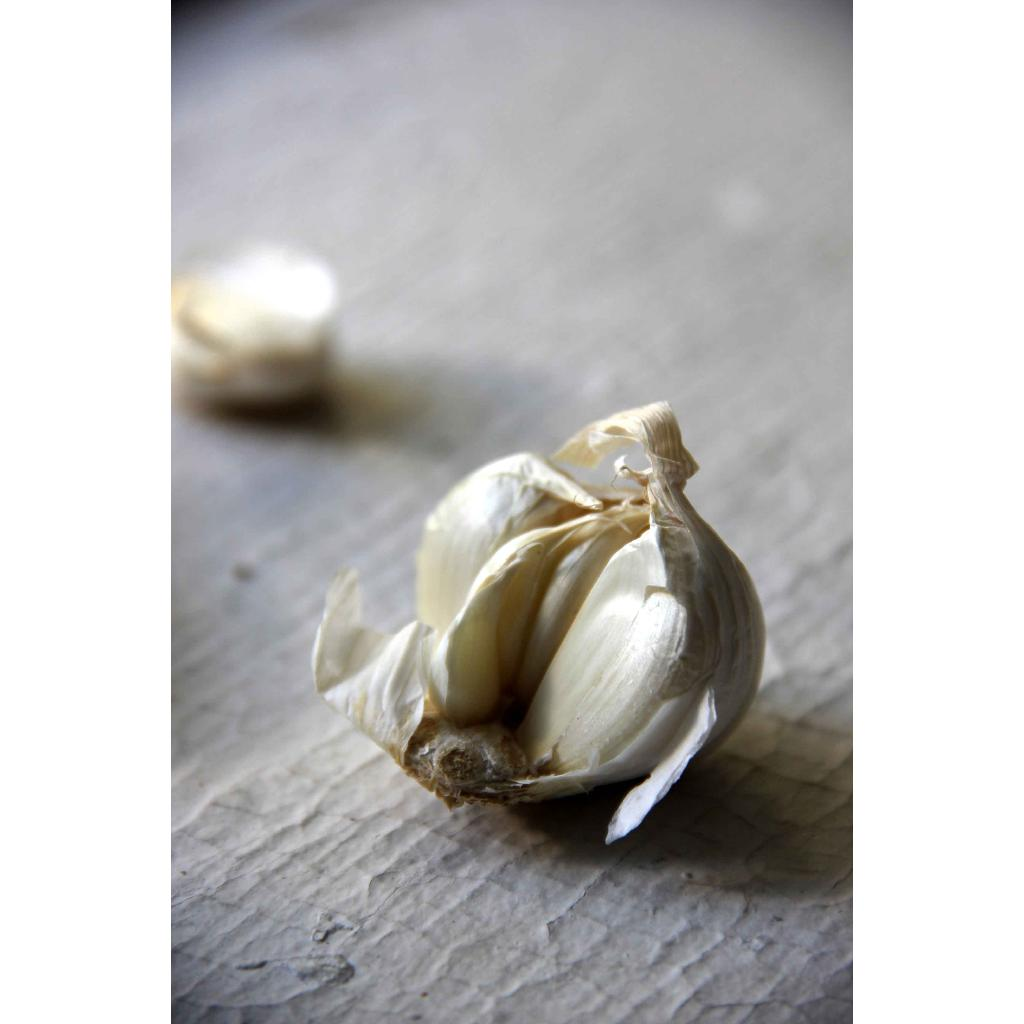garlic: (314, 403, 765, 840), (171, 244, 338, 407)
